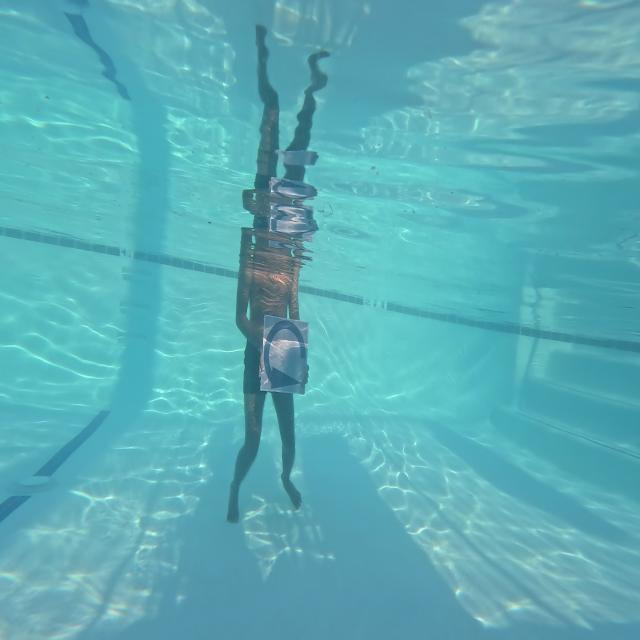blue_side: (259, 314, 308, 394)
